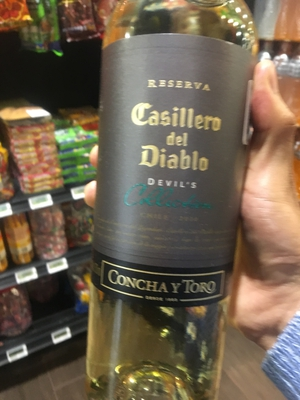casillero del diablo devils collection verde: (89, 1, 271, 400)
